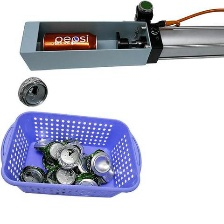can: (36, 28, 102, 57), (13, 73, 58, 107), (71, 168, 103, 194), (44, 165, 78, 189), (16, 160, 46, 187), (54, 144, 82, 171), (87, 147, 112, 175), (33, 138, 59, 152)
